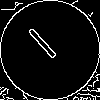I: (25, 25, 67, 69)
